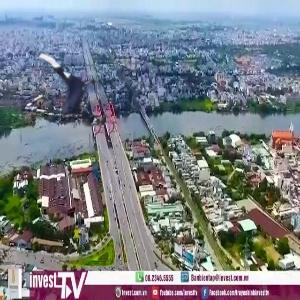drone: (25, 51, 105, 131)
